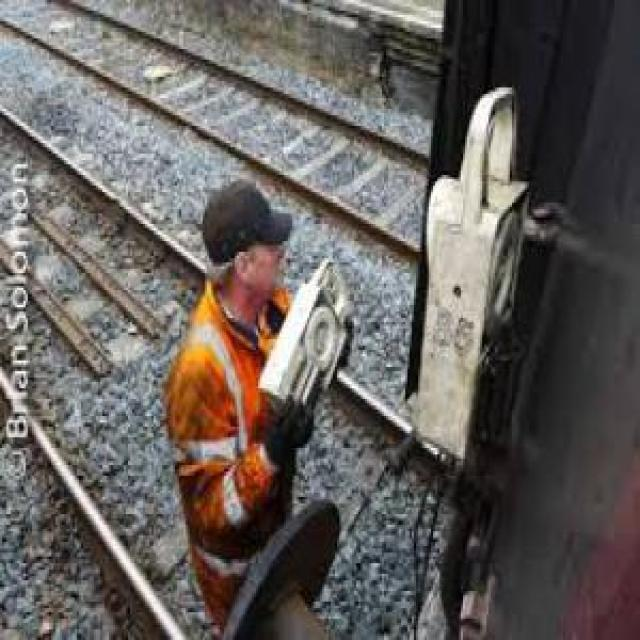danger: (165, 172, 342, 600)
rail: (0, 91, 211, 309), (347, 365, 459, 505)
